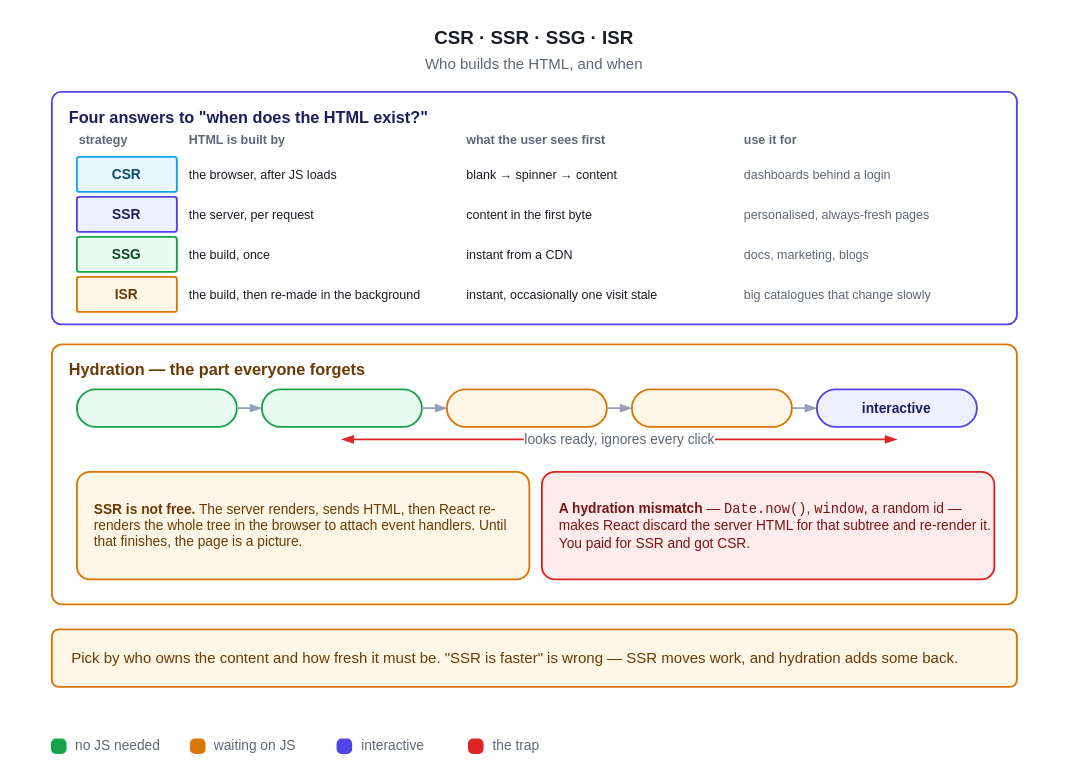
The diagram is 1068 pixels wide and 778 high, and some of its shapes have lost their labels. Here are the shapes that lost their labels. From the top down, the centre of each, then its label:
the point at 156,407: HTML arrives
the point at 341,407: paint — visible
the point at 526,407: JS downloads
the point at 711,407: hydrate
